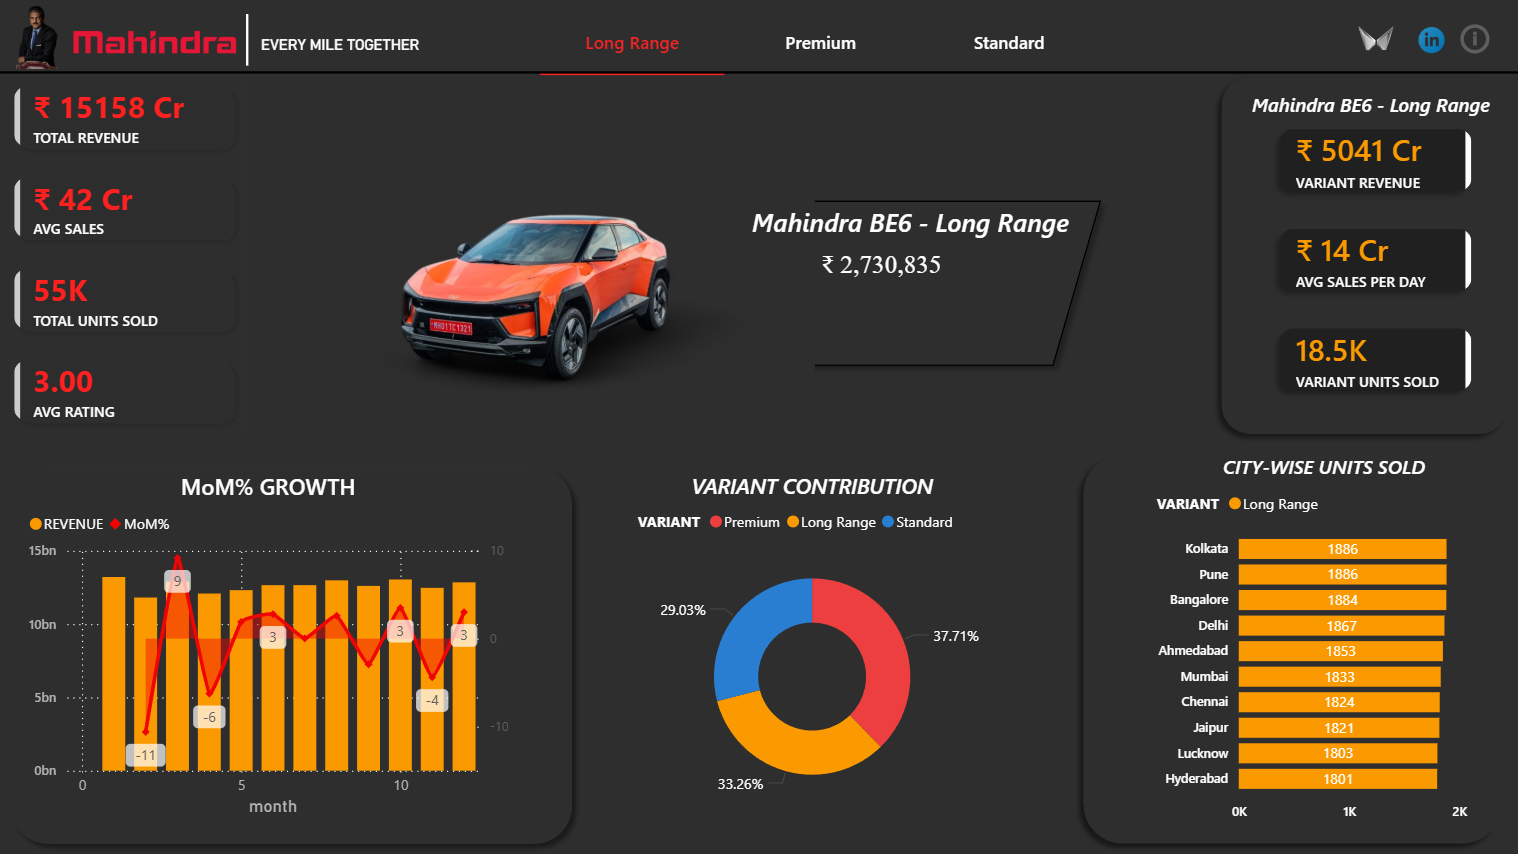

The dashboard page shown, as its layout file describes it:
{"tool":"powerbi","page":{"name":"Page 1","canvas":[1280,720],"ordinal":0},"visuals":[{"type":"shape","box":[1021.1,55.3,259.3,319.2],"z":0},{"type":"cardVisual","fields":{"Data":["sale data.Sum Rev (Cr)","sale data.Avg Sales Per Day (Cr)","sale data.Units Sold"]},"box":[1050.1,79.8,219.4,280.2],"z":1000},{"type":"shape","box":[433.4,159.5,503.9,157.2],"z":1000,"group":"g1"},{"type":"group","id":"g1","title":"Group 1","box":[215.1,45.2,722,327.1],"z":2000},{"type":"cardVisual","fields":{"Data":["Min(Variant URL.IMAGE URL)"]},"box":[215.1,45.2,477.9,327.4],"z":2000,"group":"g1"},{"type":"textbox","box":[606.3,208.6,274.1,58],"z":2250,"group":"g1"},{"type":"textbox","box":[628.9,172.3,308.5,36.3],"z":2500,"group":"g1"},{"type":"cardVisual","fields":{"Data":["All total revenue.Total Revenue (Cr)","avg_sales_per_day.Avg Sales (Cr)","Sum(Total_unit_sold.SUM(units_sold))","Sum(AVG_Rating.avg_rating)"]},"box":[0,60.9,208.3,309.4],"z":3000},{"type":"image","box":[0,2.7,65.3,60.8],"z":4000},{"type":"image","box":[58.9,9.1,143.3,54.4],"z":5000},{"type":"advancedSlicerVisual","fields":{"Values":["Variant URL.VARIANT"]},"box":[448.9,2.7,487.9,66.2],"z":6000},{"type":"shape","box":[0,43.5,1280.4,34.5],"z":7000},{"type":"shape","box":[182.3,11.8,52.6,43.5],"z":8000},{"type":"textbox","box":[214.9,22.7,184.1,27.2],"z":9000},{"type":"textbox","box":[1050.1,78,230.3,29.9],"z":10000},{"type":"shape","box":[0,384.1,491.2,336],"z":11000},{"type":"lineClusteredColumnComboChart","title":"MoM% GROWTH","fields":{"Category":["MOM_Growth.month"],"Y":["Sum(MOM_Growth.revenue)"],"Y2":["Avg(MOM_Growth.mom_growth_percentage)"]},"box":[19.6,396.9,413.6,295.7],"z":12000},{"type":"shape","box":[904.7,374.3,370.3,345.8],"z":13000},{"type":"clusteredBarChart","title":"CITY-WISE UNITS SOLD","fields":{"Category":["sale data.city"],"Y":["sale data.Units Sold"],"Series":["sale data.VARIANT"]},"box":[970.6,383.1,291.8,319.3],"z":14000},{"type":"donutChart","title":"VARIANT CONTRIBUTION","fields":{"Category":["Variant_with_high_profit.variant"],"Y":["Sum(Variant_with_high_profit.profit_percentage)"]},"box":[533.2,397.2,303.8,295.6],"z":15000},{"type":"actionButton","box":[1226.9,16.3,35.4,33.6],"z":16000},{"type":"group","id":"g2","title":"Group 2","box":[1187.7,19,38,29],"z":17000},{"type":"image","box":[1187.7,22.7,38,22],"z":17000,"group":"g2"},{"type":"image","box":[1125.8,12.8,68.8,45.2],"z":18000,"group":"g3"},{"type":"actionButton","box":[1191,19,31,29],"z":18000,"group":"g2"},{"type":"actionButton","box":[1136.8,13,47.2,39.3],"z":19000,"group":"g3"},{"type":"group","id":"g3","title":"Group 3","box":[1125.8,12.8,68.8,45.2],"z":19001}]}

Visuals, with their boxes in screenshot pixels (x1, y1, x2, y2), scaled from the page's 1280x720 canvas onto the 1518x854 screenshot:
shape: x1=1211, y1=66, x2=1517, y2=444
cardVisual - sale data.Sum Rev (Cr) x sale data.Avg Sales Per Day (Cr): x1=1245, y1=95, x2=1506, y2=427
shape: x1=514, y1=189, x2=1112, y2=376
"Group 1" group: x1=255, y1=54, x2=1111, y2=442
cardVisual - Min(Variant URL.IMAGE URL): x1=255, y1=54, x2=822, y2=442
textbox: x1=719, y1=247, x2=1044, y2=316
textbox: x1=746, y1=204, x2=1112, y2=247
cardVisual - All total revenue.Total Revenue (Cr) x avg_sales_per_day.Avg Sales (Cr): x1=0, y1=72, x2=247, y2=439
image: x1=0, y1=3, x2=77, y2=75
image: x1=70, y1=11, x2=240, y2=75
advancedSlicerVisual - Variant URL.VARIANT: x1=532, y1=3, x2=1111, y2=82
shape: x1=0, y1=52, x2=1517, y2=93
shape: x1=216, y1=14, x2=279, y2=66
textbox: x1=255, y1=27, x2=473, y2=59
textbox: x1=1245, y1=93, x2=1517, y2=128
shape: x1=0, y1=456, x2=583, y2=853
"MoM% GROWTH" lineClusteredColumnComboChart: x1=23, y1=471, x2=514, y2=822
shape: x1=1073, y1=444, x2=1512, y2=853
"CITY-WISE UNITS SOLD" clusteredBarChart: x1=1151, y1=454, x2=1497, y2=833
"VARIANT CONTRIBUTION" donutChart: x1=632, y1=471, x2=993, y2=822
actionButton: x1=1455, y1=19, x2=1497, y2=59
"Group 2" group: x1=1409, y1=23, x2=1454, y2=57
image: x1=1409, y1=27, x2=1454, y2=53
image: x1=1335, y1=15, x2=1417, y2=69
actionButton: x1=1412, y1=23, x2=1449, y2=57
actionButton: x1=1348, y1=15, x2=1404, y2=62
"Group 3" group: x1=1335, y1=15, x2=1417, y2=69
